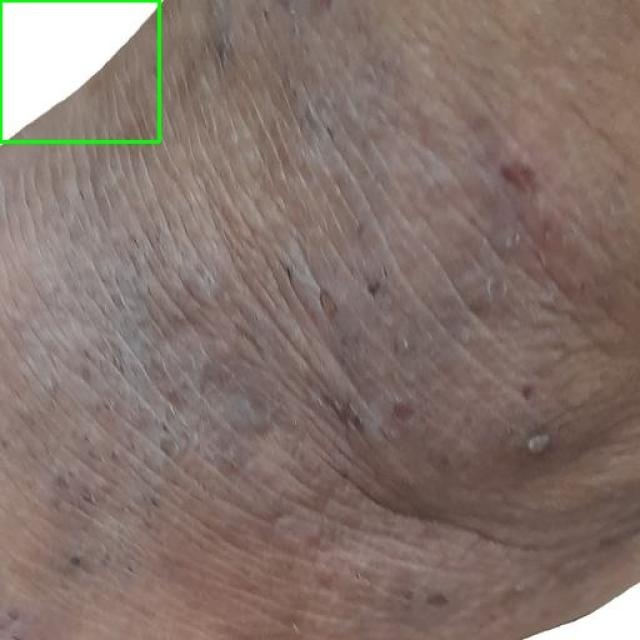Contact Dermatitis: (0, 0, 159, 141)
